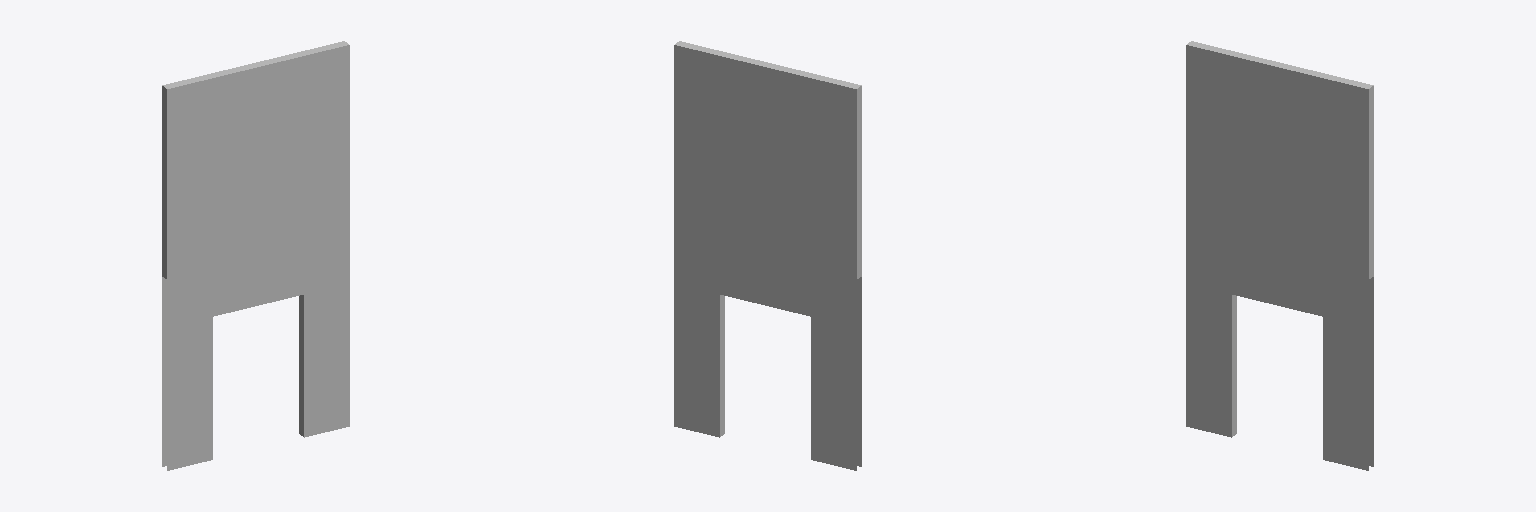
The model's file is Wall4mDoorway.obj.
3 views of the same model, side by side, from view 1: azimuth 30°, elevation 25°; view 2: azimuth 150°, elevation 25°; view 3: azimuth 330°, elevation 25° (orthographic).
Visible parts, largest first — view 1: Wall4mDoorway; view 2: Wall4mDoorway; view 3: Wall4mDoorway.
Boxes of the visible parts, box(x1,y1,x2,y2) form: Wall4mDoorway: box(162, 41, 349, 470); Wall4mDoorway: box(674, 41, 861, 470); Wall4mDoorway: box(1186, 41, 1373, 470).
Bounding box in the file's own units: 4 × 8 × 0.2.